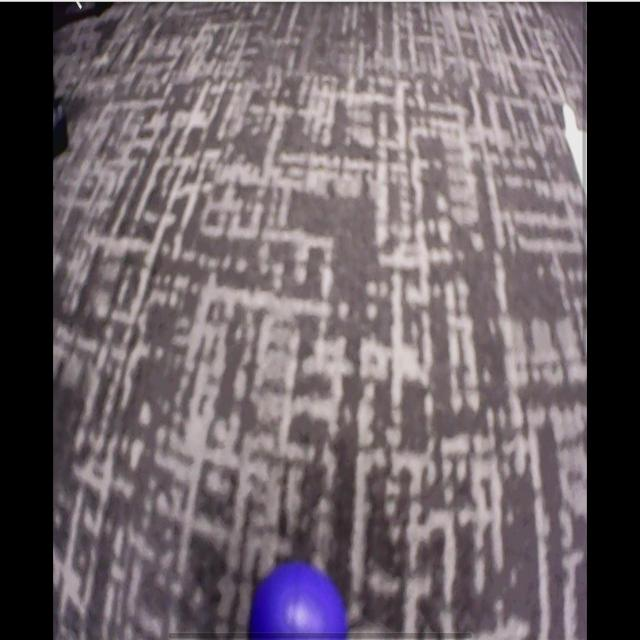ball: (250, 563, 345, 640)
